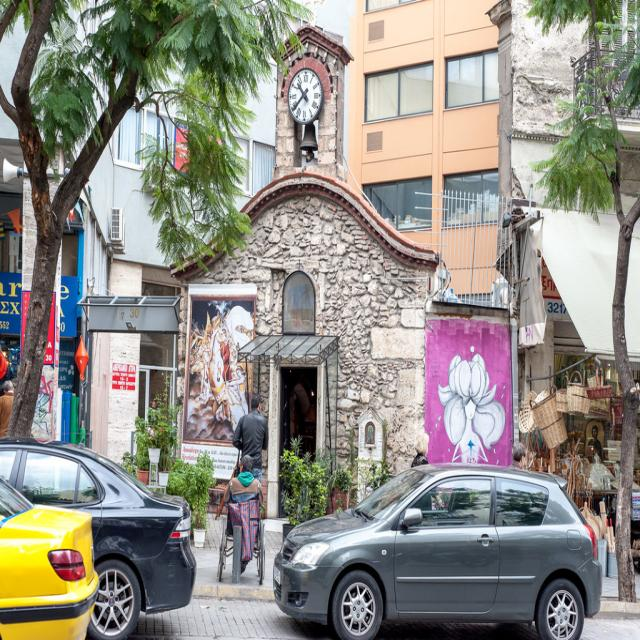car: (267, 467, 597, 638)
